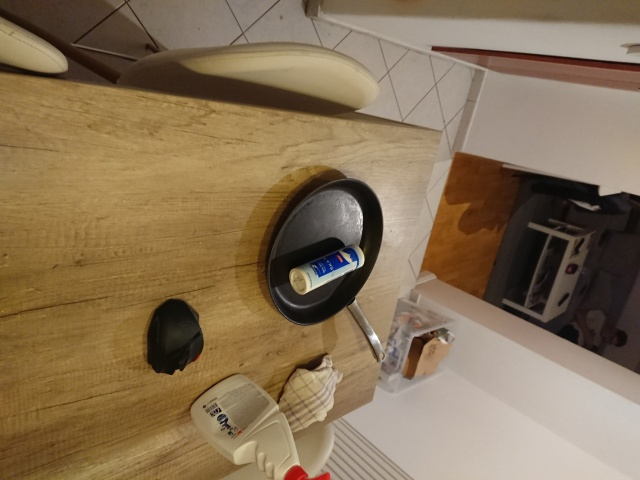Solana Pag Fine Sea Salt 250g: (285, 242, 367, 299)
